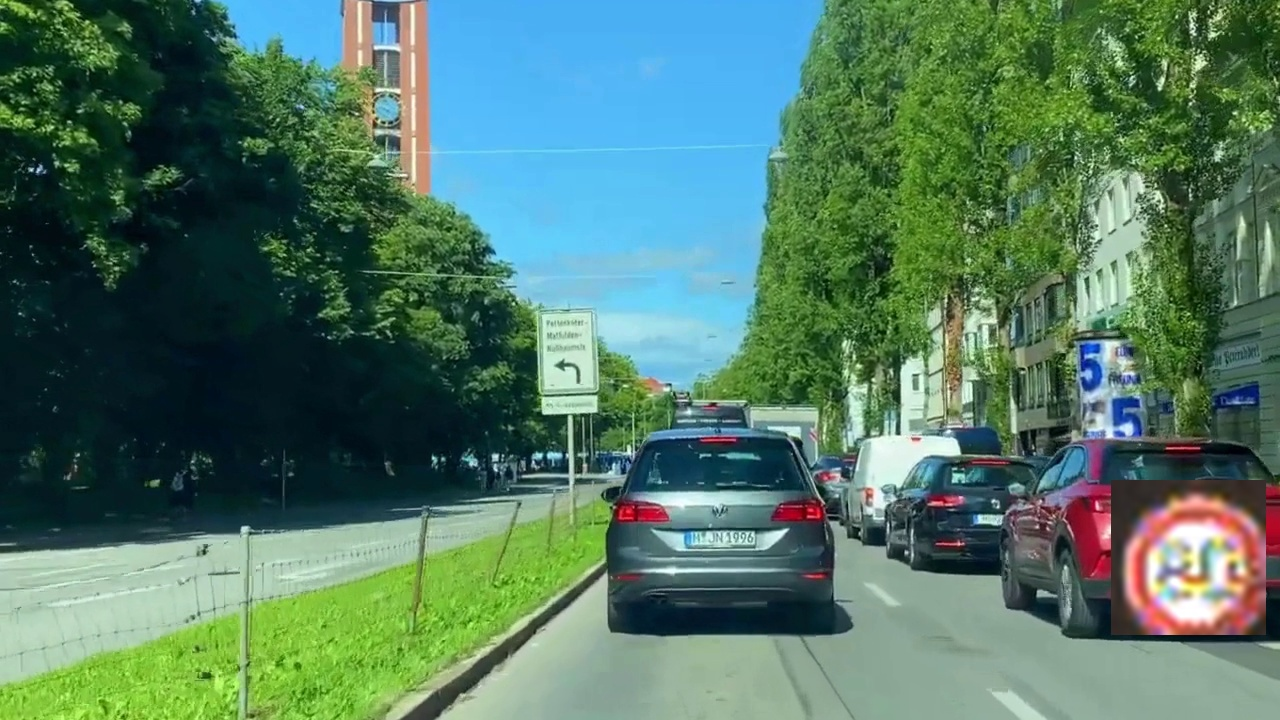Speed 80: (1111, 480, 1266, 635)
